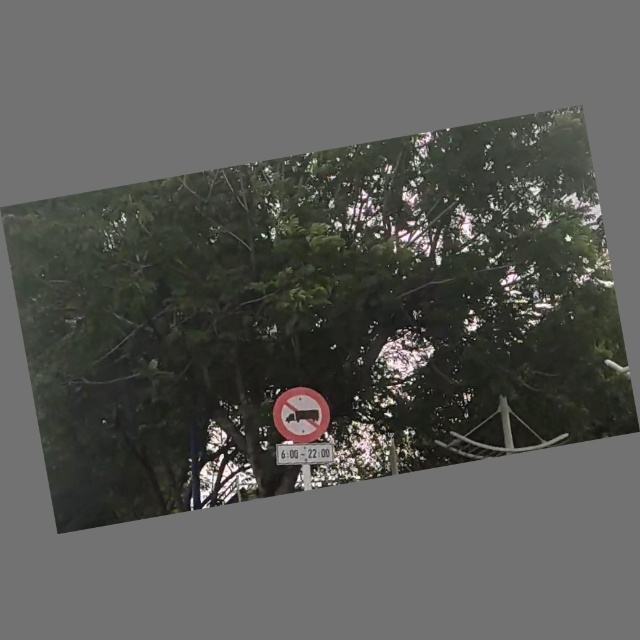B.8a: (267, 383, 339, 469)
